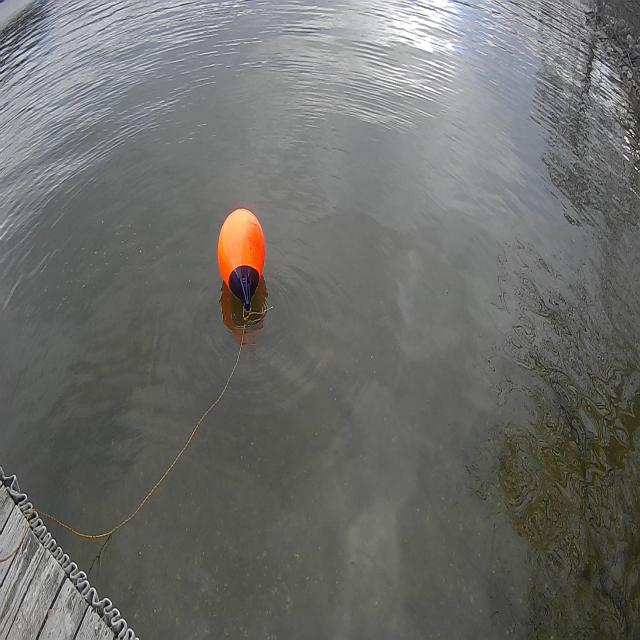Buoy: (215, 205, 267, 297)
